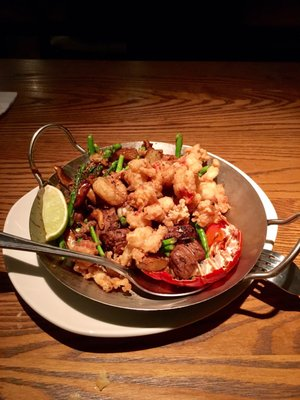curry: (0, 49, 299, 374)
